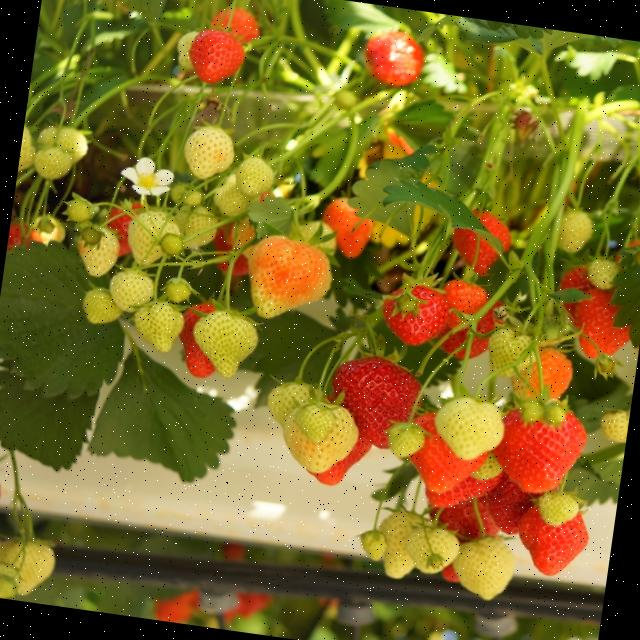Ripe Strawberry: (319, 330, 425, 454), (491, 391, 596, 493), (564, 277, 640, 371), (521, 502, 599, 586), (405, 416, 475, 498), (172, 300, 234, 389), (444, 199, 514, 276), (361, 24, 434, 94), (376, 278, 451, 344), (184, 25, 250, 92), (432, 502, 502, 543), (103, 200, 141, 262), (445, 328, 491, 366), (211, 230, 247, 278), (456, 279, 496, 319), (550, 258, 590, 296), (154, 591, 198, 623), (10, 218, 46, 254), (0, 462, 14, 541)
